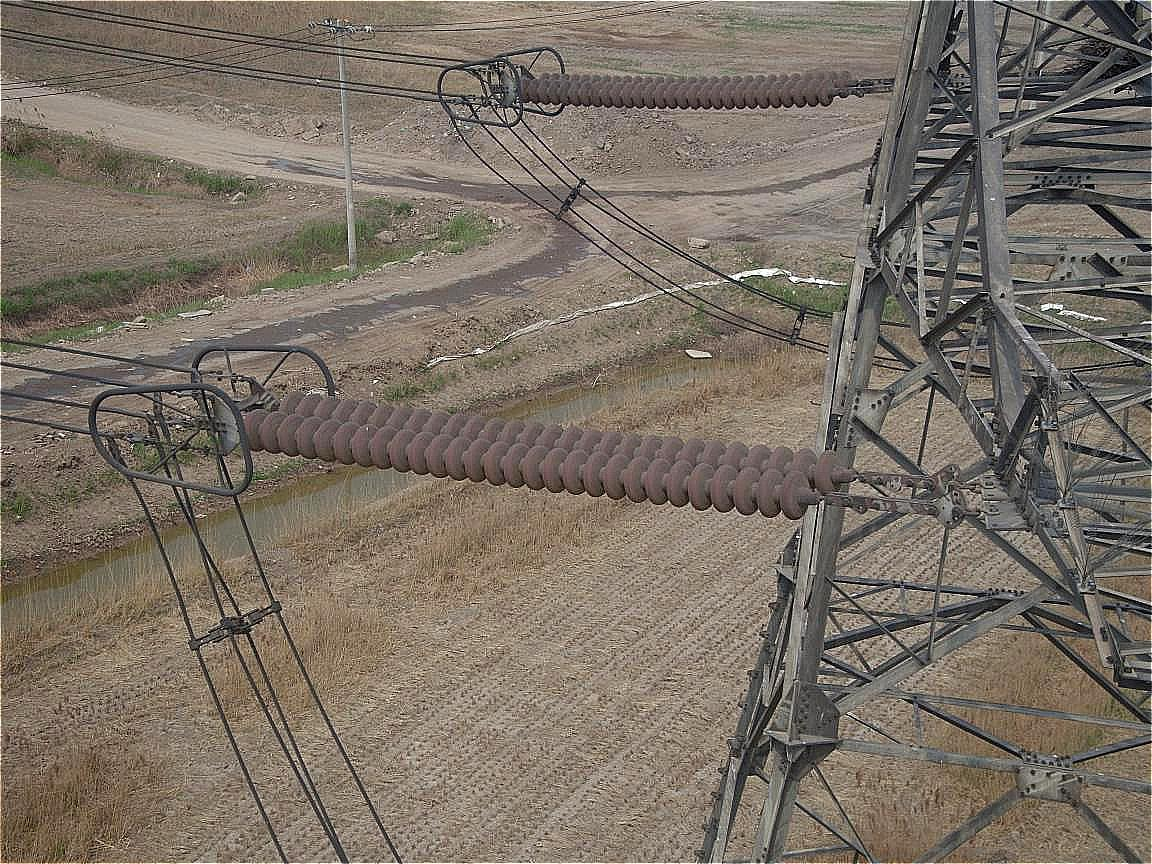insultor1: (239, 388, 842, 519), (516, 71, 855, 108)
